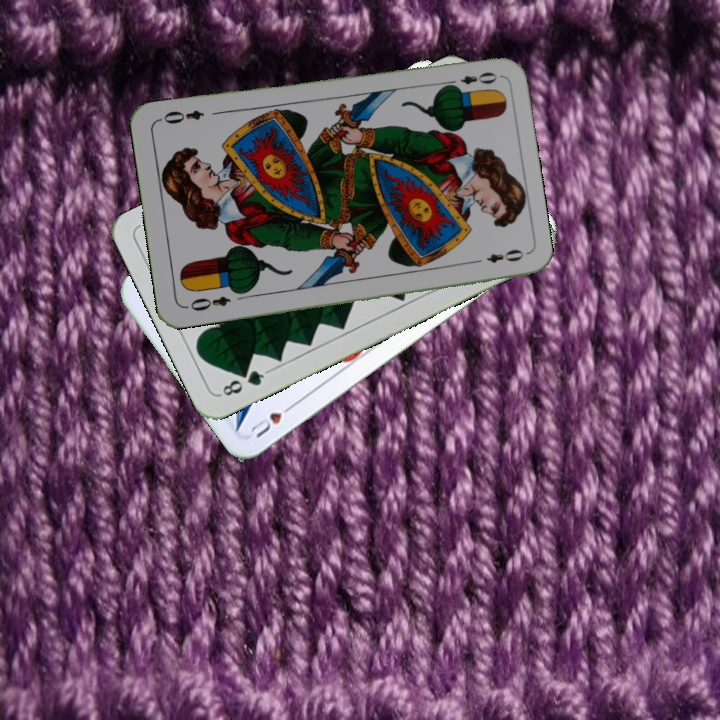EO: (442, 68, 500, 92), (181, 292, 233, 314)
G8: (216, 366, 271, 399)
HU: (246, 399, 298, 441)
